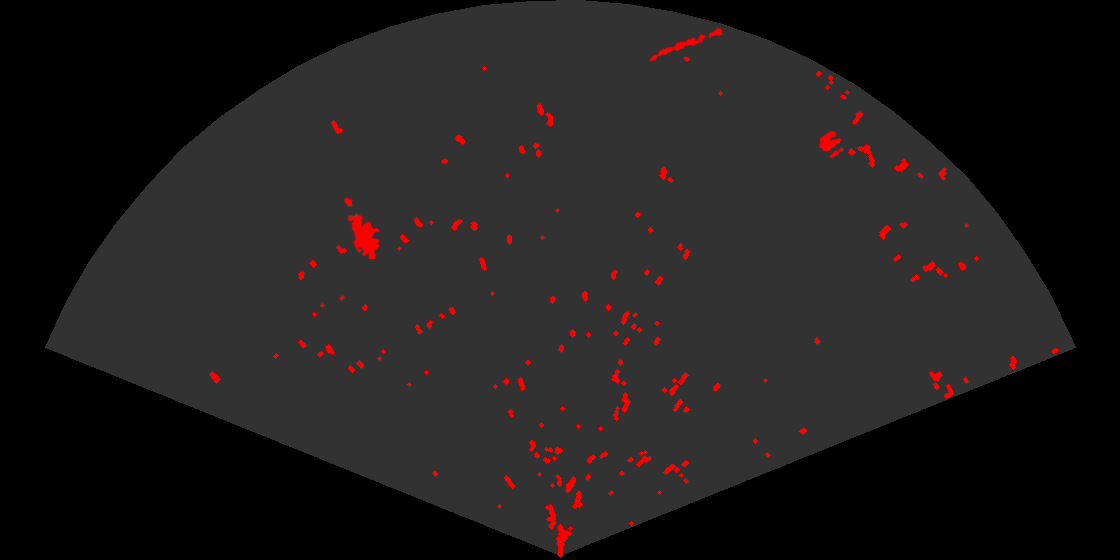ball: (817, 129, 845, 160)
chain: (648, 26, 725, 63)
frogman: (343, 195, 382, 259)
